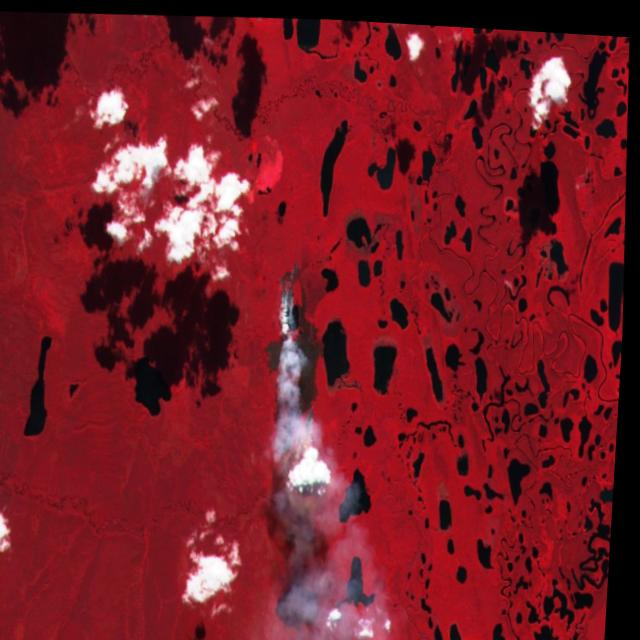fire: (261, 255, 331, 459)
